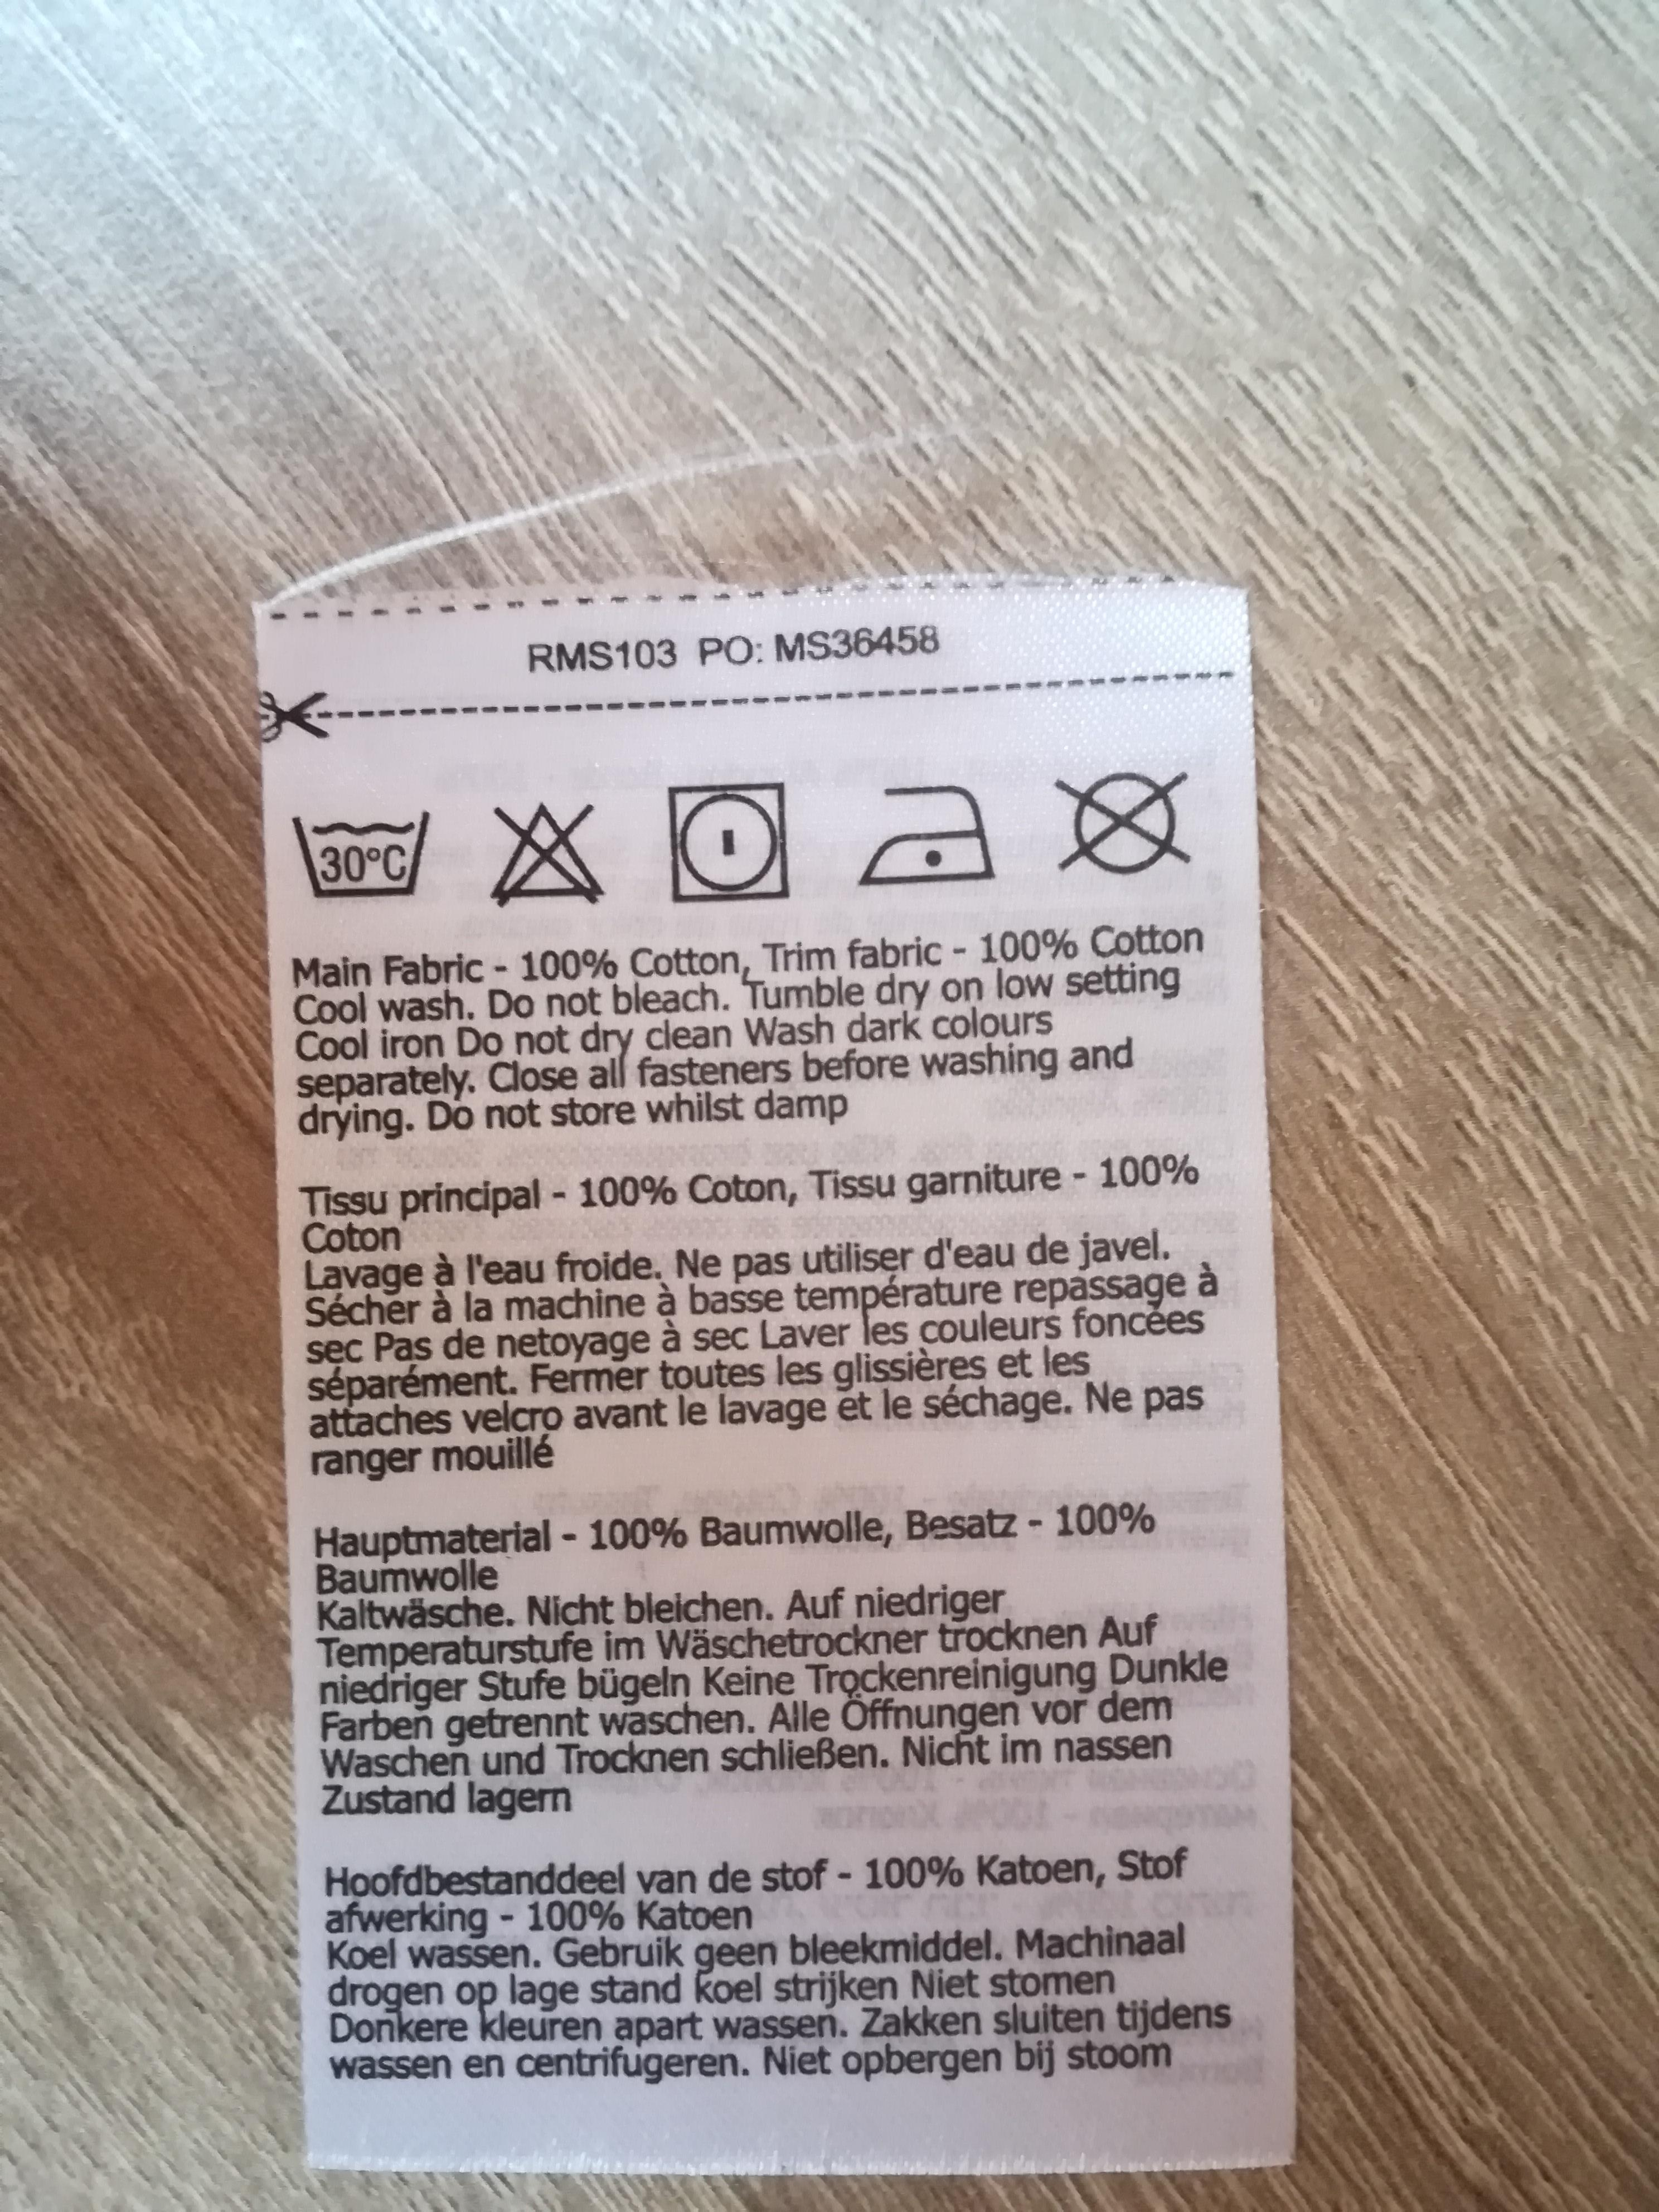30C: (286, 789, 444, 918)
DN_bleach: (488, 789, 606, 920)
DN_dry_clean: (1060, 759, 1201, 876)
iron_low: (859, 765, 1002, 897)
tumble_dry_low: (662, 773, 798, 914)
